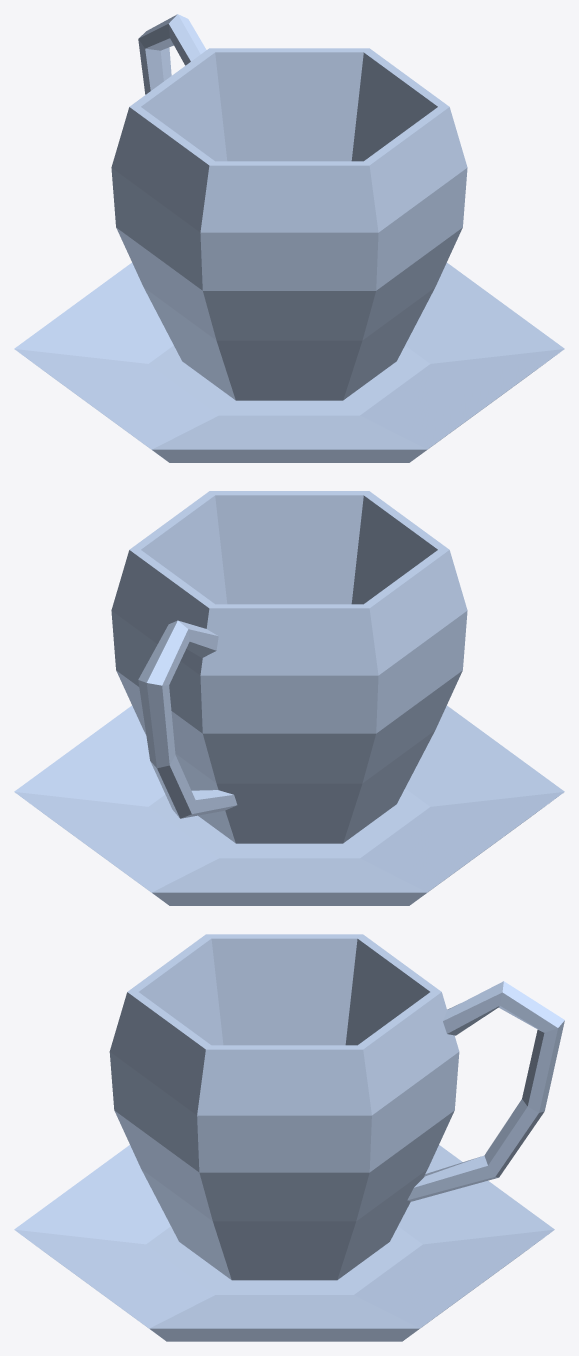
File: teacup_and_dish.fbx
3 renders of one model, top to bottom at view 1: azimuth 30°, elevation 25°; view 2: azimuth 150°, elevation 25°; view 3: azimuth 270°, elevation 25°, orthographic.
Parts seen in each view (by area): view 1: Cylinder.001, Cylinder; view 2: Cylinder.001, Cylinder; view 3: Cylinder.001, Cylinder.
Part boxes in pixels (x1,y1,x2,y2): Cylinder.001: (111, 14, 467, 400); Cylinder: (14, 262, 564, 462); Cylinder.001: (111, 491, 467, 843); Cylinder: (14, 705, 564, 905); Cylinder.001: (109, 934, 564, 1280); Cylinder: (14, 1145, 554, 1341).
Bounding box in the file's own units: 199 × 128 × 234.
